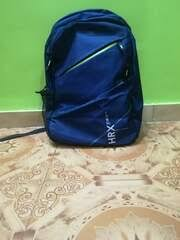backpack: (0, 8, 143, 147)
